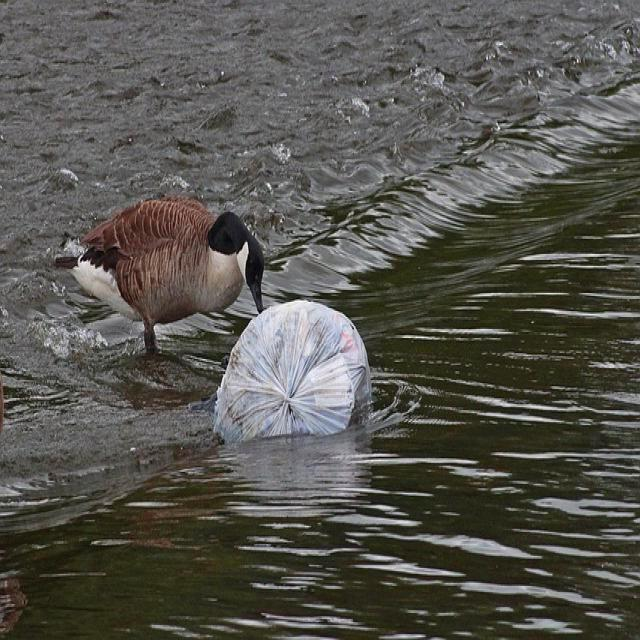Trash: (208, 299, 369, 452)
